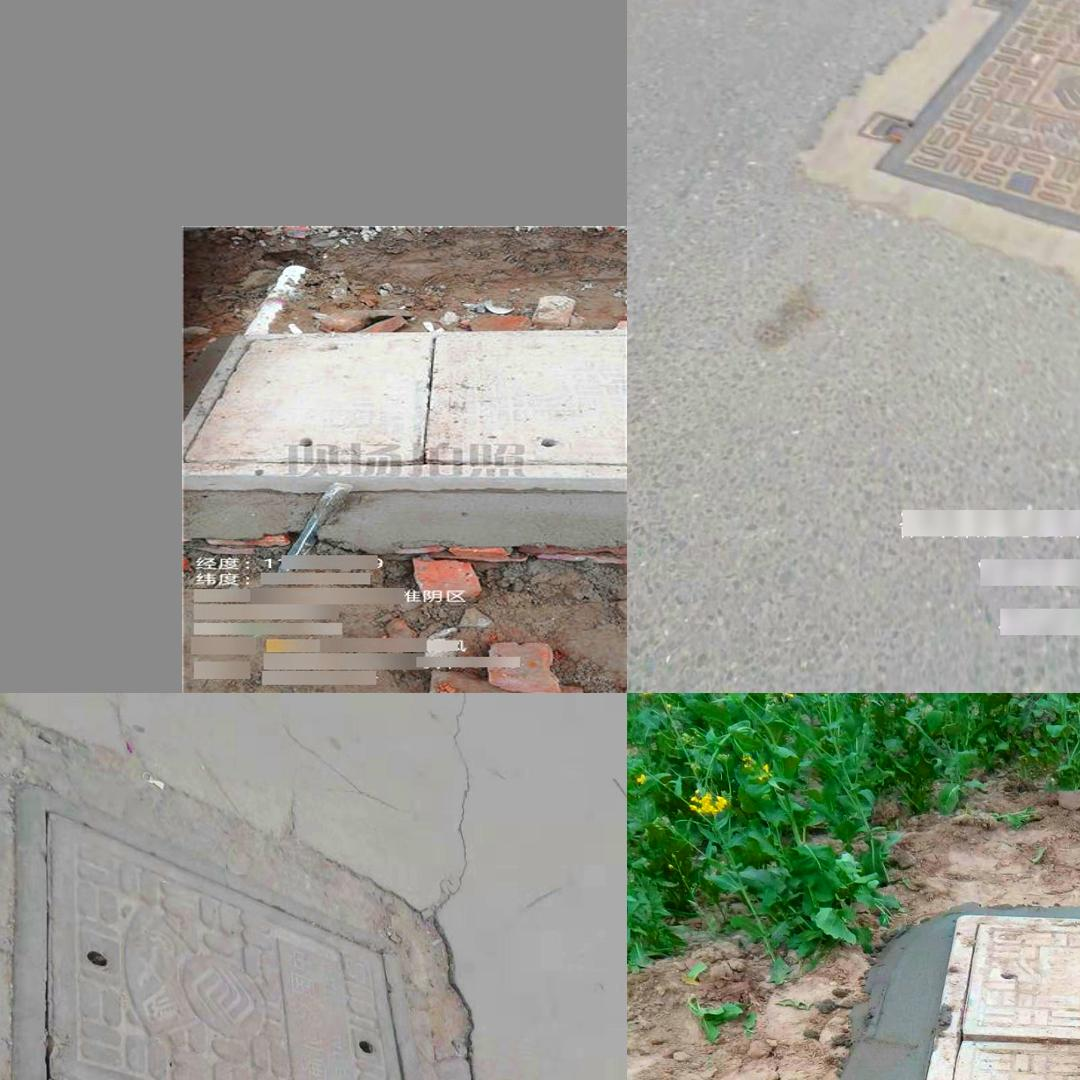good: (0, 786, 505, 1080), (183, 328, 627, 489), (822, 0, 1080, 242), (906, 921, 1080, 1080)
